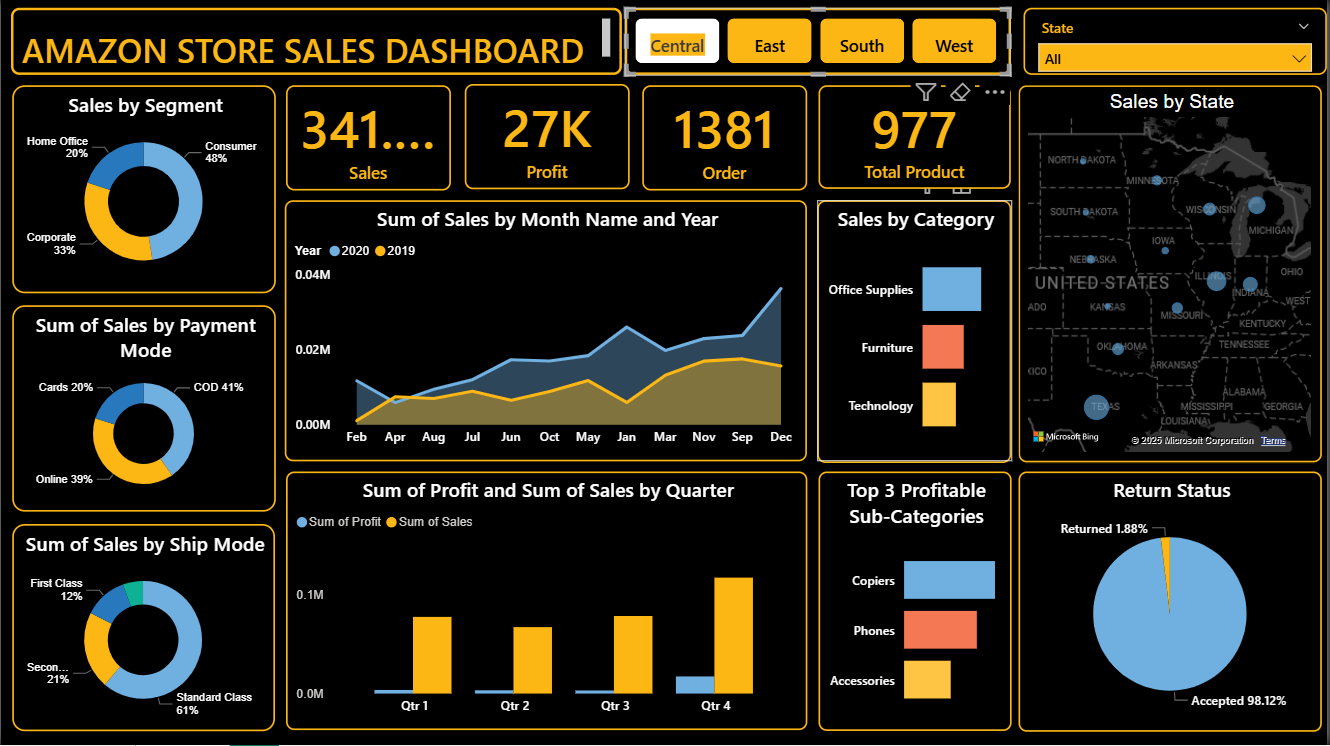

What the dashboard file says about the page in this screenshot:
{"tool":"powerbi","page":{"name":"Page 1","canvas":[1280,720],"ordinal":0},"visuals":[{"type":"donutChart","title":"Sales by Segment","fields":{"Y":["Sum(Amazon Store Sales Data.Sales)"],"Category":["Amazon Store Sales Data.Segment"]},"box":[10.8,82.9,254.6,200.5],"z":0},{"type":"donutChart","fields":{"Y":["Sum(Amazon Store Sales Data.Sales)"],"Category":["Amazon Store Sales Data.Payment Mode"]},"box":[10.8,295.4,254.6,199.3],"z":1000},{"type":"donutChart","fields":{"Y":["Sum(Amazon Store Sales Data.Sales)"],"Category":["Amazon Store Sales Data.Ship Mode"]},"box":[11.2,506.2,253.8,200],"z":2000},{"type":"textbox","box":[9.7,8.4,589.9,65.1],"z":3000},{"type":"areaChart","fields":{"Y":["Sum(Amazon Store Sales Data.Sales)"],"Category":["Amazon Store Sales Data.Month Name"],"Series":["Amazon Store Sales Data.Year"]},"box":[273.9,194.2,504.3,252.1],"z":4000},{"type":"clusteredColumnChart","fields":{"Y":["Sum(Amazon Store Sales Data.Profit)","Sum(Amazon Store Sales Data.Sales)"],"Category":["Amazon Store Sales Data.Order Date.Variation.Date Hierarchy.Quarter"]},"box":[275.1,456,503.1,249.7],"z":5000},{"type":"advancedSlicerVisual","fields":{"Values":["Amazon Store Sales Data.Region"]},"box":[602,8.4,372.8,65.1],"z":6000},{"type":"clusteredBarChart","title":"Sales by Category","fields":{"Category":["Amazon Store Sales Data.Category"],"Y":["Sum(Amazon Store Sales Data.Sales)"]},"box":[788.2,193.6,187.4,253.2],"z":7000},{"type":"clusteredBarChart","title":"Top 3 Profitable Sub-Categories","fields":{"Category":["Amazon Store Sales Data.Sub-Category"],"Y":["Sum(Amazon Store Sales Data.Profit)"]},"box":[789.5,455.6,186.2,250.7],"z":8000},{"type":"card","fields":{"Values":["Sum(Amazon Store Sales Data.Sales)"]},"box":[275.1,83.2,159.3,101.3],"z":9000},{"type":"card","fields":{"Values":["Sum(Amazon Store Sales Data.Profit)"]},"box":[447.6,82,159.3,101.3],"z":10000},{"type":"card","fields":{"Values":["CountNonNull(Amazon Store Sales Data.Order ID)"]},"box":[618.9,83.2,159.3,101.3],"z":11000},{"type":"card","fields":{"Values":["Count(Amazon Store Sales Data.Product ID)"]},"box":[789,83.2,185.8,100.1],"z":12000},{"type":"map","title":"Sales by State","fields":{"Size":["Sum(Amazon Store Sales Data.Sales)"],"Category":["Amazon Store Sales Data.State"]},"box":[982,83.2,293.2,364.3],"z":13000},{"type":"slicer","fields":{"Values":["Amazon Store Sales Data.State"]},"box":[986.9,8.4,293.2,65.1],"z":13001},{"type":"pieChart","title":"Return Status","fields":{"Category":["Amazon Store Sales Data.Order Status"],"Y":["Sum(Amazon Store Sales Data.Sales)"]},"box":[982,456,293,251],"z":13002}]}

Visuals, with their boxes in screenshot pixels (x1, y1, x2, y2), scaled from the page's 1280x720 canvas onto the 1330x746 screenshot:
"Sales by Segment" donutChart: select_region(11, 86, 276, 294)
donutChart - Sum(Amazon Store Sales Data.Sales) x Amazon Store Sales Data.Payment Mode: select_region(11, 306, 276, 513)
donutChart - Sum(Amazon Store Sales Data.Sales) x Amazon Store Sales Data.Ship Mode: select_region(12, 524, 275, 732)
textbox: select_region(10, 9, 623, 76)
areaChart - Sum(Amazon Store Sales Data.Sales) x Amazon Store Sales Data.Month Name: select_region(285, 201, 809, 462)
clusteredColumnChart - Sum(Amazon Store Sales Data.Profit) x Sum(Amazon Store Sales Data.Sales): select_region(286, 472, 809, 731)
advancedSlicerVisual - Amazon Store Sales Data.Region: select_region(626, 9, 1013, 76)
"Sales by Category" clusteredBarChart: select_region(819, 201, 1014, 463)
"Top 3 Profitable Sub-Categories" clusteredBarChart: select_region(820, 472, 1014, 732)
card - Sum(Amazon Store Sales Data.Sales): select_region(286, 86, 451, 191)
card - Sum(Amazon Store Sales Data.Profit): select_region(465, 85, 631, 190)
card - CountNonNull(Amazon Store Sales Data.Order ID): select_region(643, 86, 809, 191)
card - Count(Amazon Store Sales Data.Product ID): select_region(820, 86, 1013, 190)
"Sales by State" map: select_region(1020, 86, 1325, 464)
slicer - Amazon Store Sales Data.State: select_region(1025, 9, 1329, 76)
"Return Status" pieChart: select_region(1020, 472, 1325, 733)
